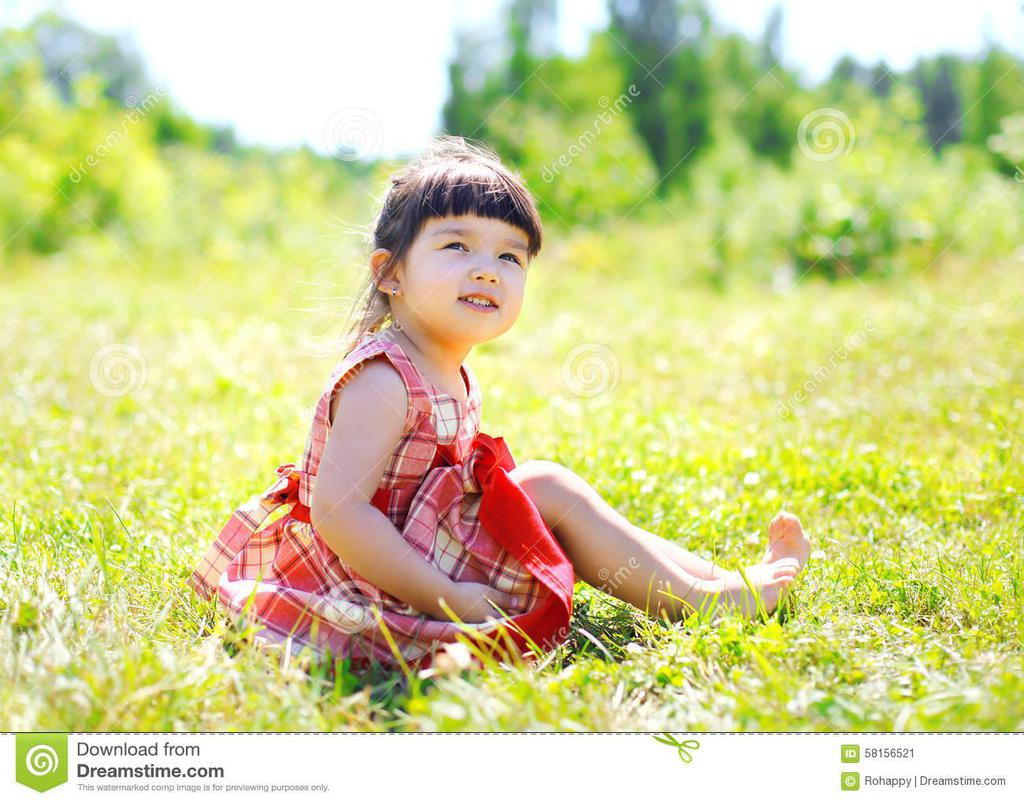child: (184, 132, 826, 673)
